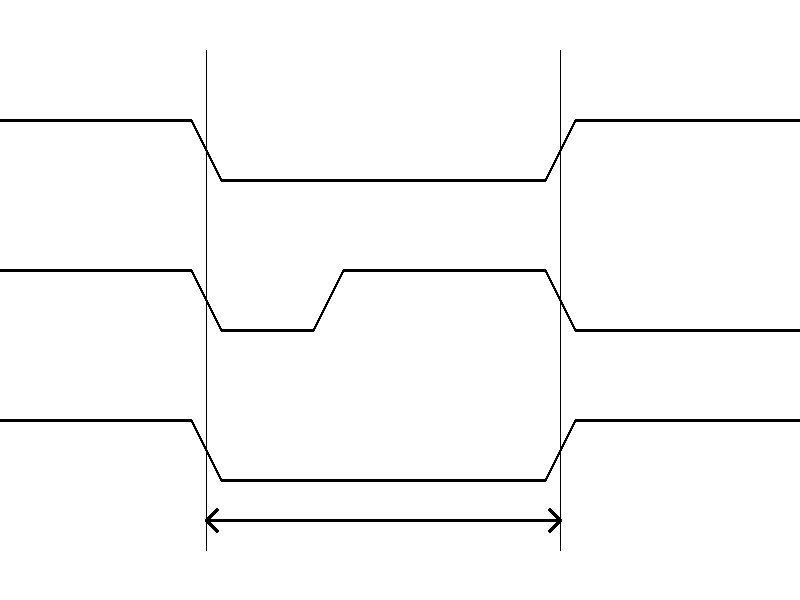double_arrow: (206, 505, 560, 535)
